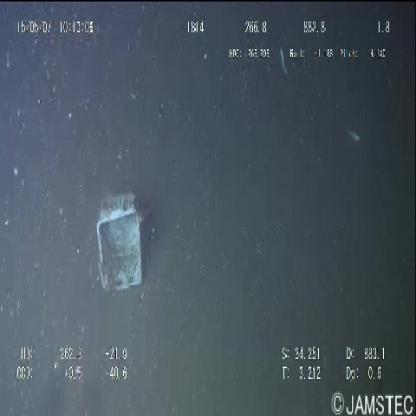Rác: (91, 183, 149, 305)
